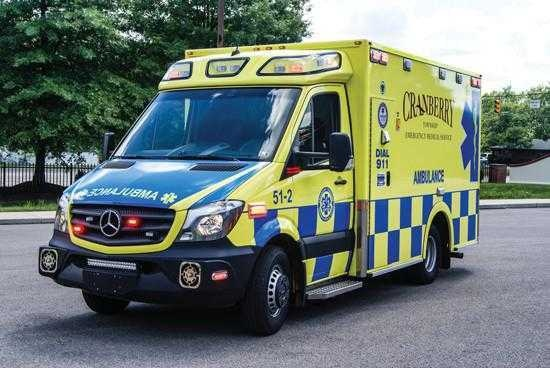Ambulance: (28, 41, 490, 314)
